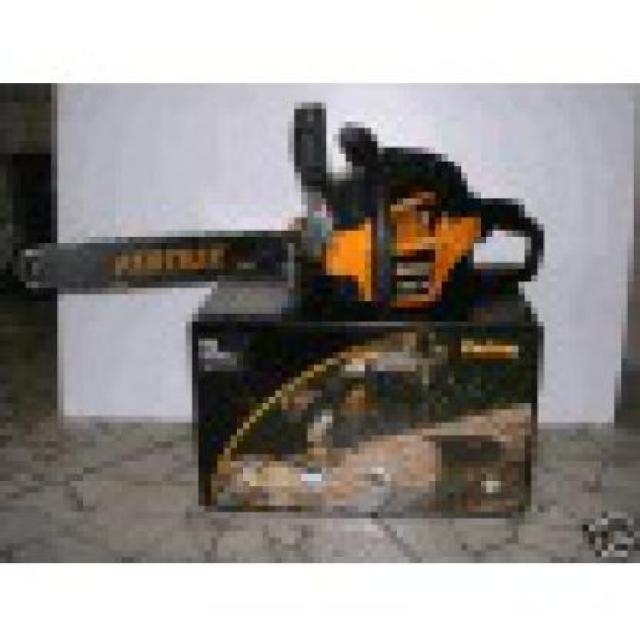Chainsaw: (6, 100, 548, 320)
